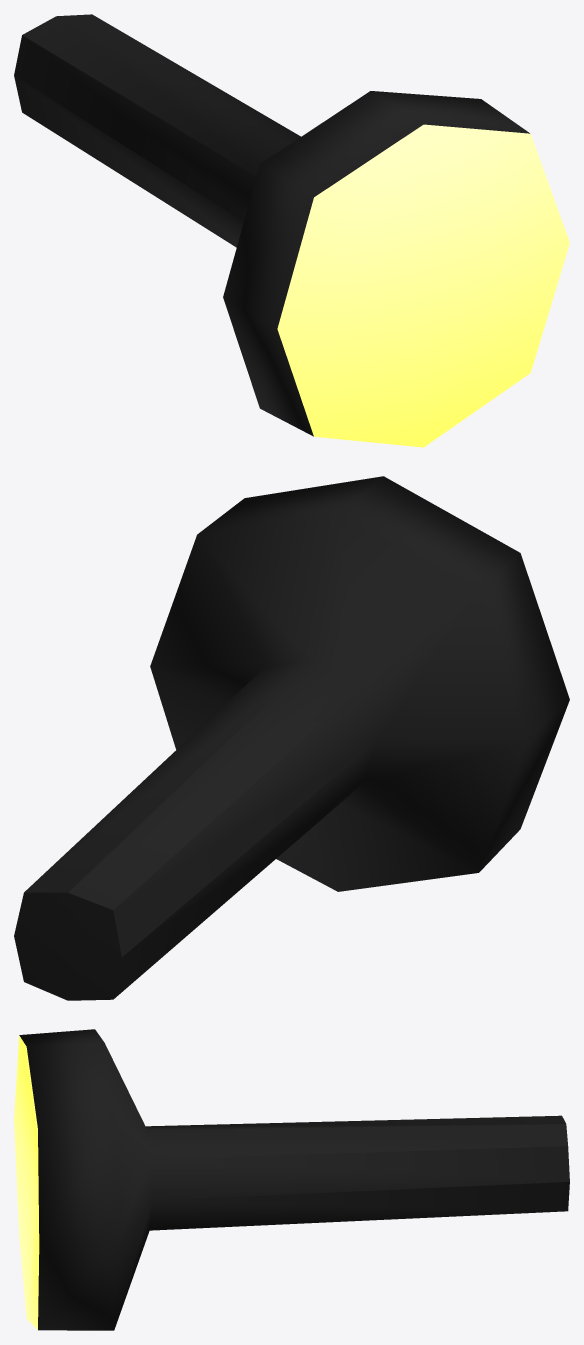
The model's file is lamp.fbx.
3 views of the same model, one above another, from view 1: azimuth 30°, elevation 25°; view 2: azimuth 150°, elevation 25°; view 3: azimuth 270°, elevation 25° (orthographic). The views are drawn at different scales.
Parts seen in each view (by area): view 1: lamp; view 2: lamp; view 3: lamp.
Part boxes in pixels (<box>): lamp: <box>14,14,569,447</box>; lamp: <box>14,476,569,1000</box>; lamp: <box>14,1029,569,1330</box>.
Bounding box in the file's own units: 16.74 × 16.51 × 30.31.
